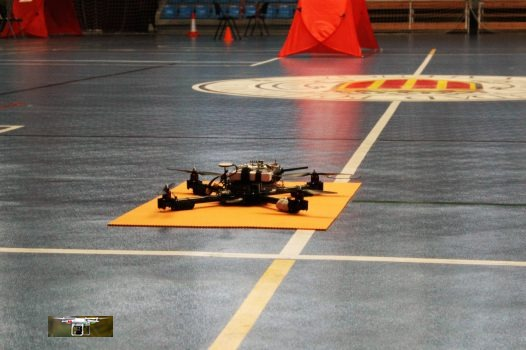drone: (155, 158, 361, 214), (48, 316, 113, 337)
